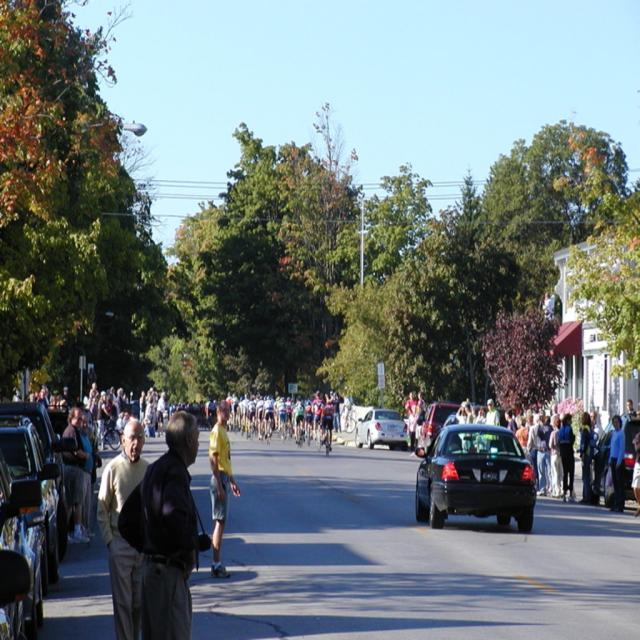car: (410, 415, 538, 534), (353, 405, 409, 446)
